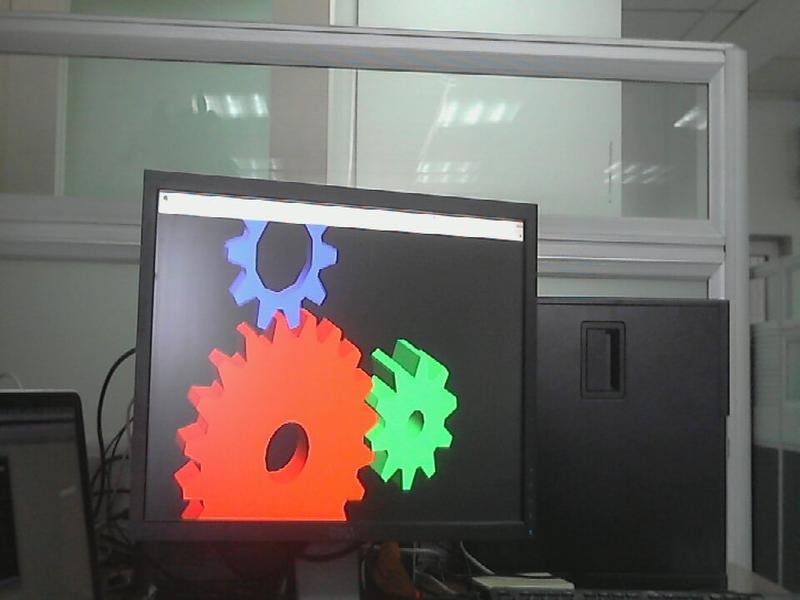glxgears_pass: (157, 192, 462, 523)
